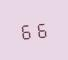six: (19, 21, 33, 40), (34, 20, 48, 38)
